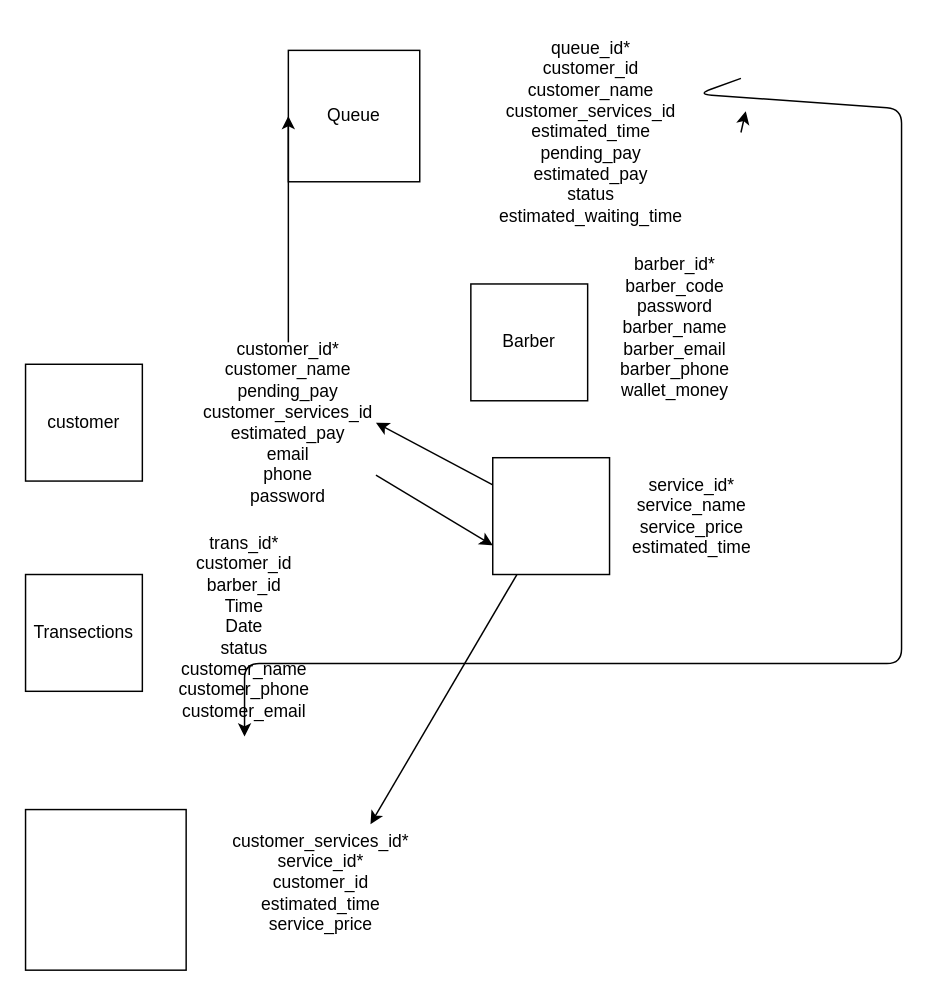
Some shapes in this 939 by 996 pixel diagram are drawn without their labels. The centre of each missing label's shape, as x and y in pixels:
customer_services: (x=105, y=889)
Services: (x=550, y=515)
